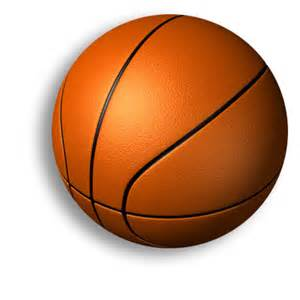basketball: (49, 14, 290, 250)
